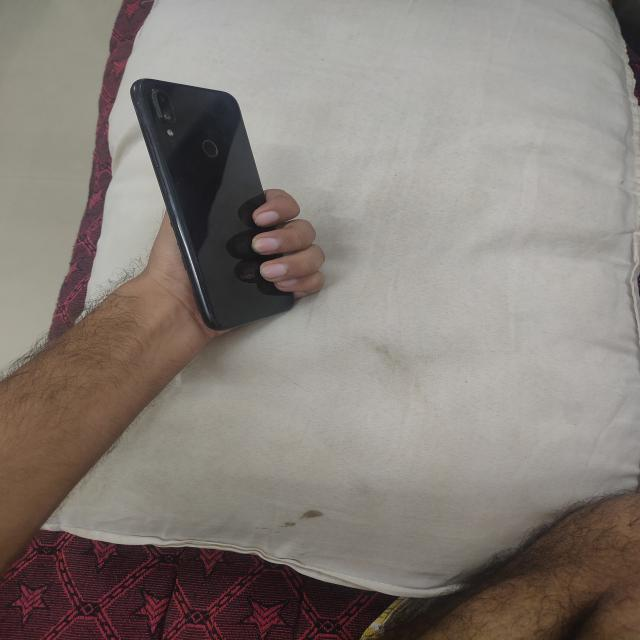Phone: (126, 76, 304, 336)
